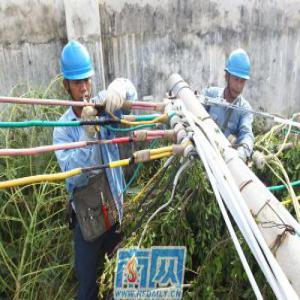blue: (62, 40, 93, 107), (225, 48, 251, 98)
